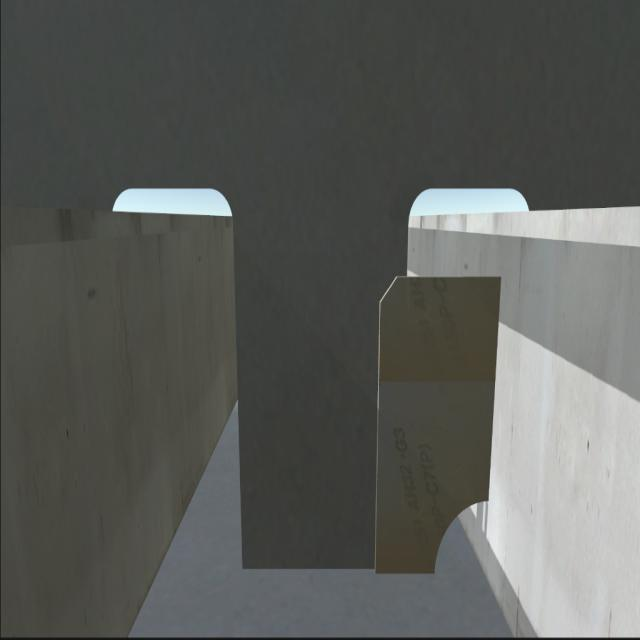fillet_hole: (438, 500, 490, 576)
fillet_yong_jeop_jang: (234, 546, 445, 588)
longi_yong_jeop_jang: (482, 272, 508, 510)
plate_CP03: (378, 271, 498, 568)
